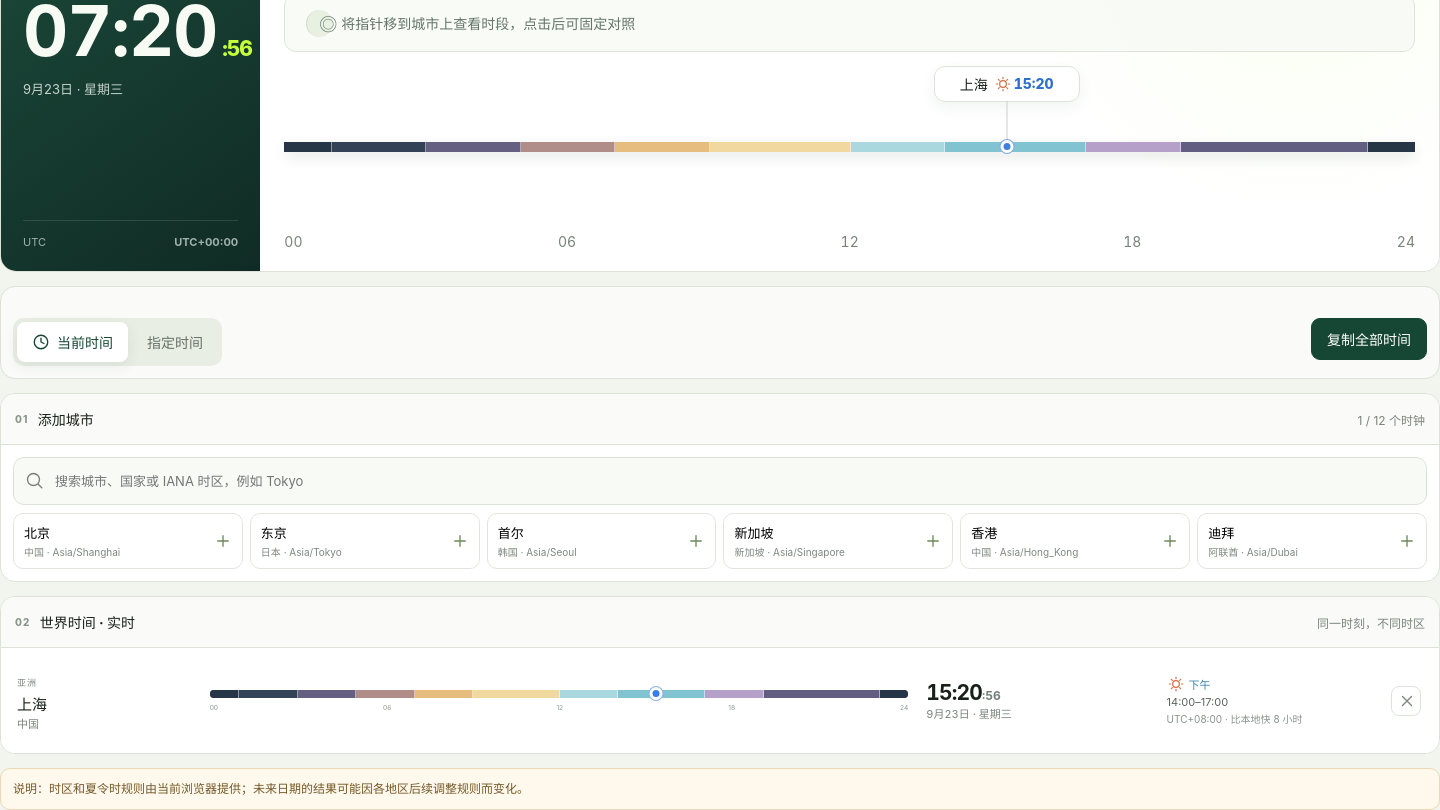
WorldTimeTool › prevents removing the final city
The image size is (1440, 810).
(page scrolled)
Click the button named "移除上海": (1406, 700) [1391,686,1421,716]
(page scrolled)
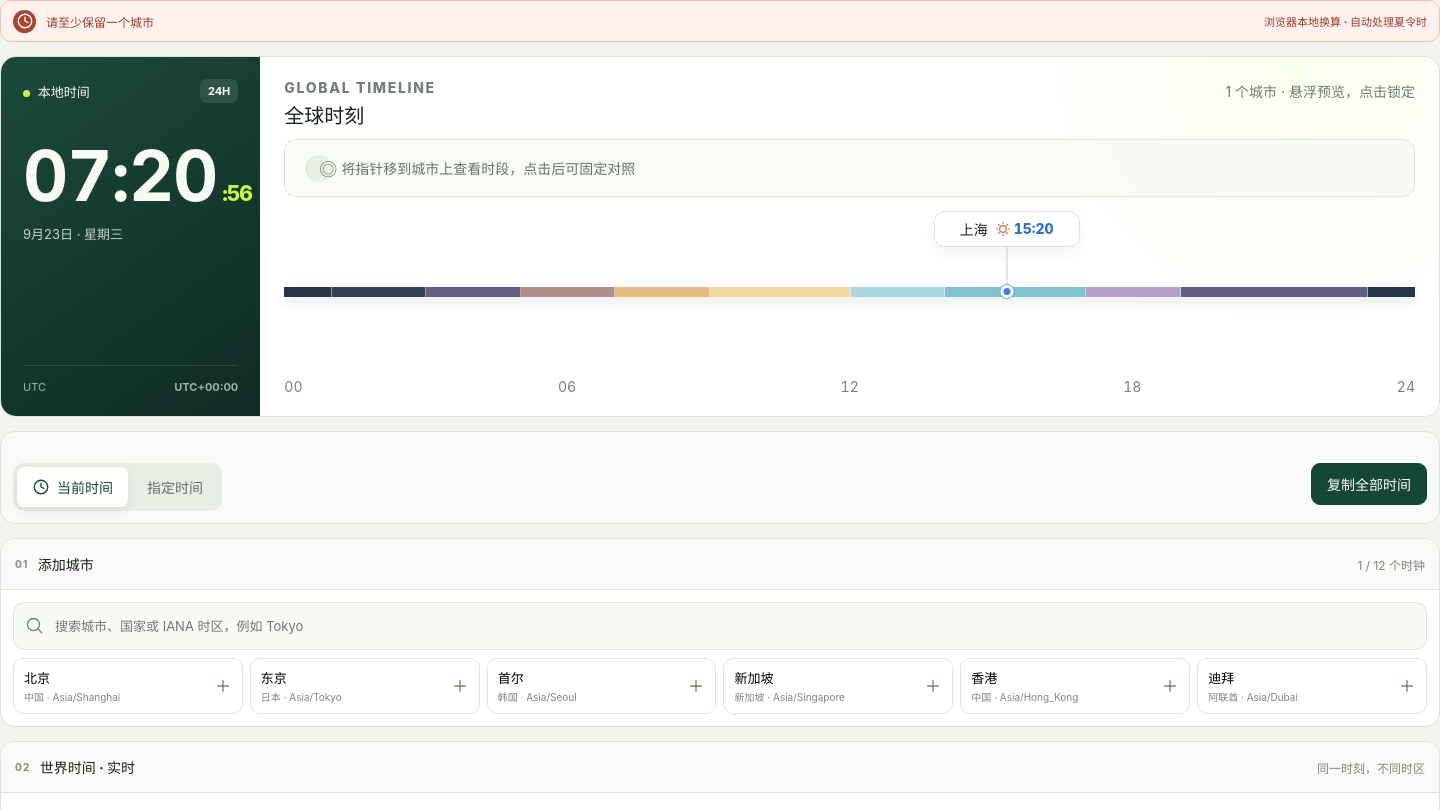
expect the message shows "至少保留一个城市": met, box [46,14,154,30]
